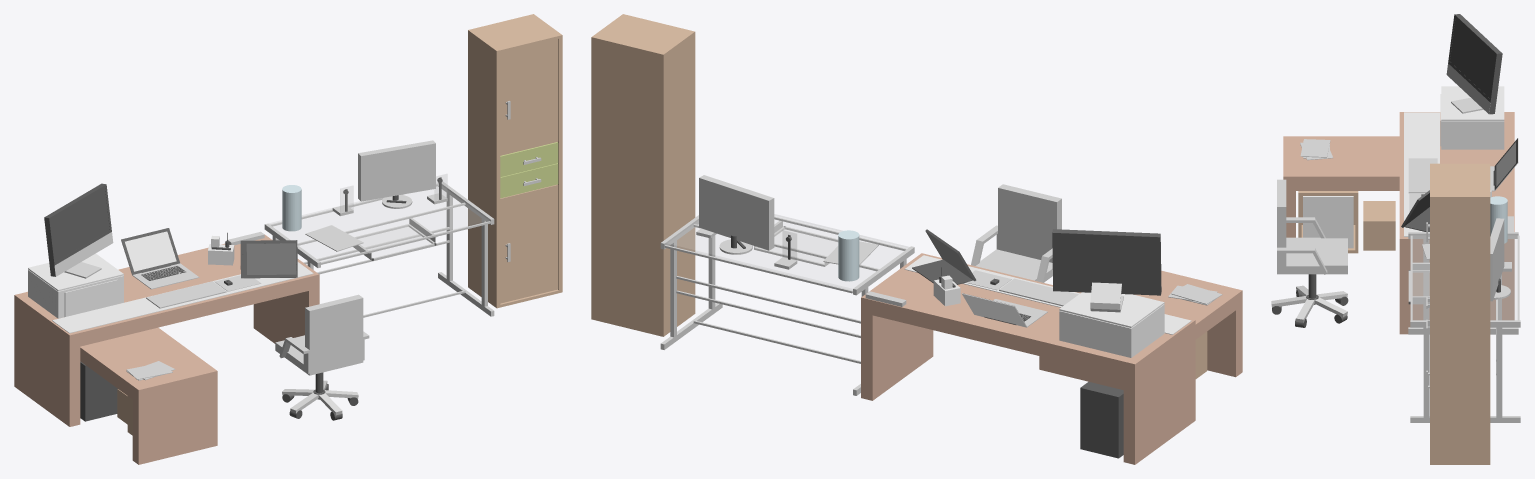
Rendered from studyroom4.glb.
3 views of the same model, side by side, from view 1: azimuth 30°, elevation 25°; view 2: azimuth 150°, elevation 25°; view 3: azimuth 270°, elevation 25° (orthographic). The views are drawn at different scales.
Visible parts, largest first — view 1: Cube.078, Cube, Cube.023, Cube.008, Cube.080, Cube.001, Cube.004, Cube.003, PetitEcran, Cube.127, iMac, Cube.012 (+22 smaller); view 2: Cube.076, Cube, Cube.078, iMac, Cube.003, Cube.023, Cube.002, PetitEcran, Cube.001, Cube.127, Cube.007, Cube.016 (+15 smaller); view 3: Cube.084, Cube.001, Cube, Cube.023, iMac, Cube.002, Cube.012, Cube.069, Cube.083, Cube.128, Cube.007, Cube.017 (+22 smaller).
Part boxes in pixels (<box>): Cube.078: <box>468,31,500,305</box>; Cube: <box>14,234,319,348</box>; Cube.023: <box>269,182,490,262</box>; Cube.008: <box>500,184,558,303</box>; Cube.080: <box>500,39,558,155</box>; Cube.001: <box>80,327,217,403</box>; Cube.004: <box>132,384,217,464</box>; Cube.003: <box>14,309,80,426</box>; PetitEcran: <box>358,140,435,201</box>; Cube.127: <box>305,294,363,367</box>; iMac: <box>44,183,109,276</box>; Cube.012: <box>52,262,313,333</box>; Cube.076: <box>595,38,659,332</box>; Cube: <box>861,253,1195,379</box>; Cube.078: <box>659,35,695,333</box>; iMac: <box>1052,229,1161,295</box>; Cube.003: <box>1123,335,1195,464</box>; Cube.023: <box>666,214,908,290</box>; Cube.002: <box>861,312,933,400</box>; PetitEcran: <box>699,175,774,250</box>; Cube.001: <box>1039,270,1242,389</box>; Cube.127: <box>998,184,1061,262</box>; Cube.007: <box>1059,304,1164,357</box>; Cube.016: <box>1080,381,1123,458</box>; Cube.084: <box>1430,195,1490,461</box>; Cube.001: <box>1283,136,1399,190</box>; Cube: <box>1399,112,1514,253</box>; Cube.023: <box>1410,234,1518,319</box>; iMac: <box>1450,14,1502,114</box>; Cube.002: <box>1399,253,1514,334</box>; Cube.012: <box>1404,112,1439,236</box>; Cube.069: <box>1303,196,1353,248</box>; Cube.083: <box>1430,163,1490,199</box>; Cube.128: <box>1277,238,1347,274</box>; Cube.007: <box>1441,121,1504,149</box>; Cube.017: <box>1363,201,1395,250</box>.
Size of the model in its own units: 3.86 by 1.87 by 1.58.
